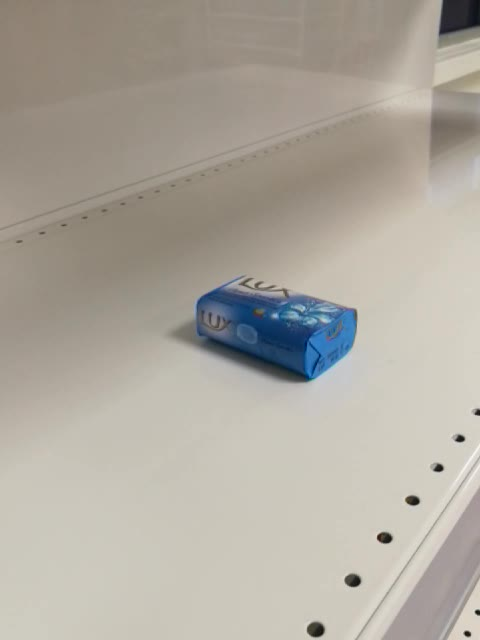soap: (193, 274, 360, 382)
